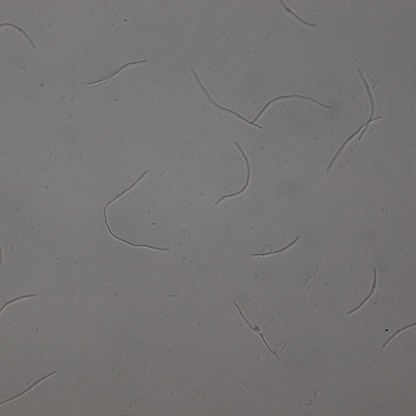Sensitive: (103, 168, 170, 250), (191, 69, 261, 128), (328, 116, 380, 171), (235, 303, 279, 358), (251, 94, 331, 123), (215, 142, 251, 204), (1, 372, 54, 404), (88, 58, 147, 86), (355, 68, 377, 143), (348, 268, 378, 313), (1, 19, 36, 50), (250, 237, 300, 257), (279, 1, 316, 27), (383, 320, 416, 347), (1, 292, 36, 316)
